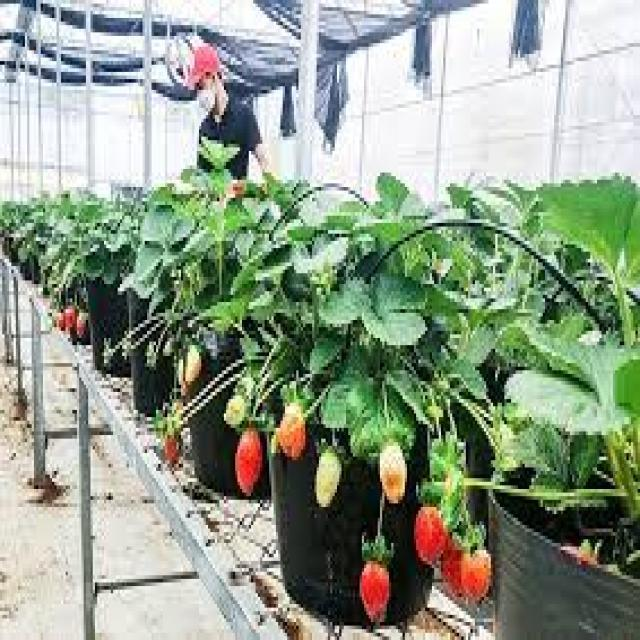Fruta sana: (448, 534, 490, 606), (236, 428, 264, 502), (360, 562, 391, 622), (418, 506, 448, 568), (318, 454, 342, 514), (278, 404, 306, 454), (167, 419, 187, 476), (54, 310, 78, 339)
